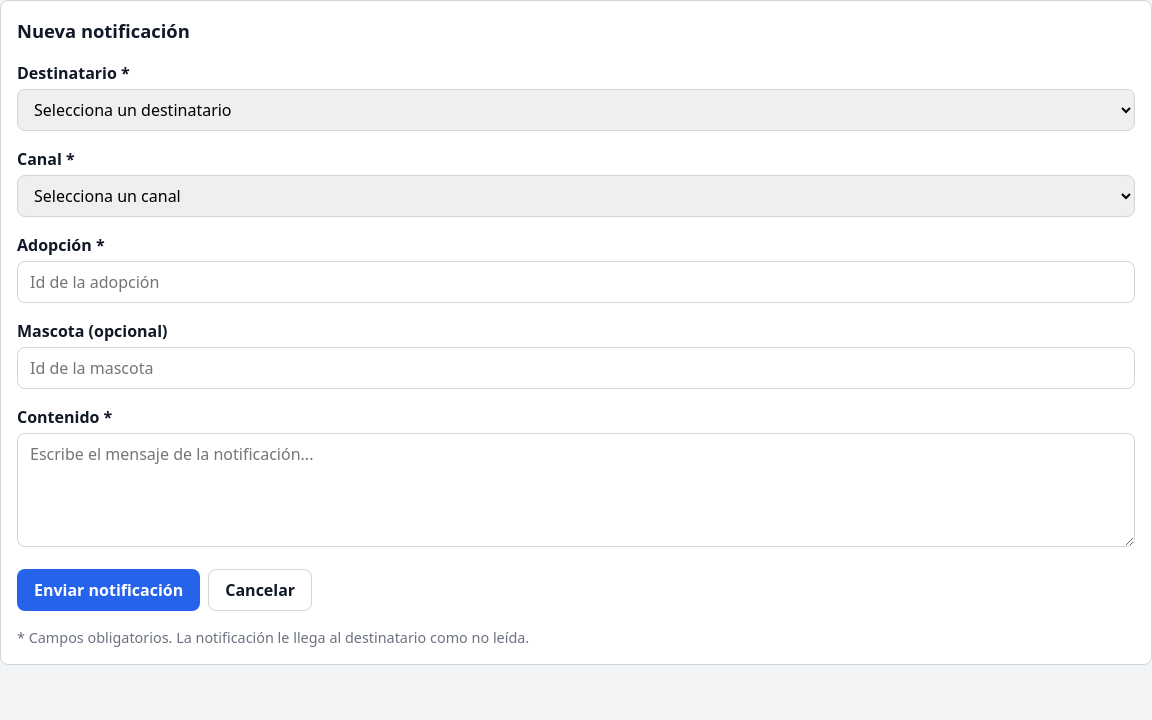
Test case: NotificationForm › reports the missing fields and does not submit an empty form
The width and height of the screenshot is (1152, 720).
Click the button "Enviar notificación" at (109, 590), box x1=17 y1=569 x2=200 y2=611
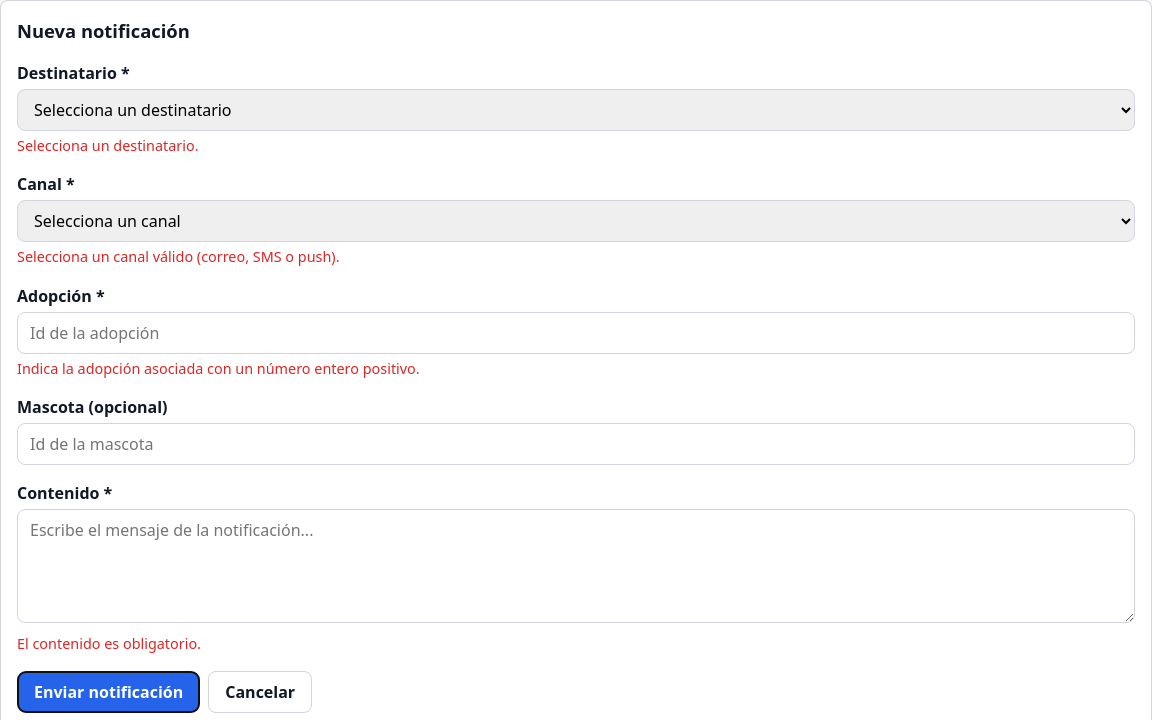
Now the text "Selecciona un destinatario." is shown, box x1=17 y1=136 x2=198 y2=155
Now the text "Selecciona un canal válido (correo, SMS o push)." is shown, box x1=17 y1=247 x2=340 y2=266
Now the text "Indica la adopción asociada con un número entero positivo." is shown, box x1=17 y1=359 x2=420 y2=378
